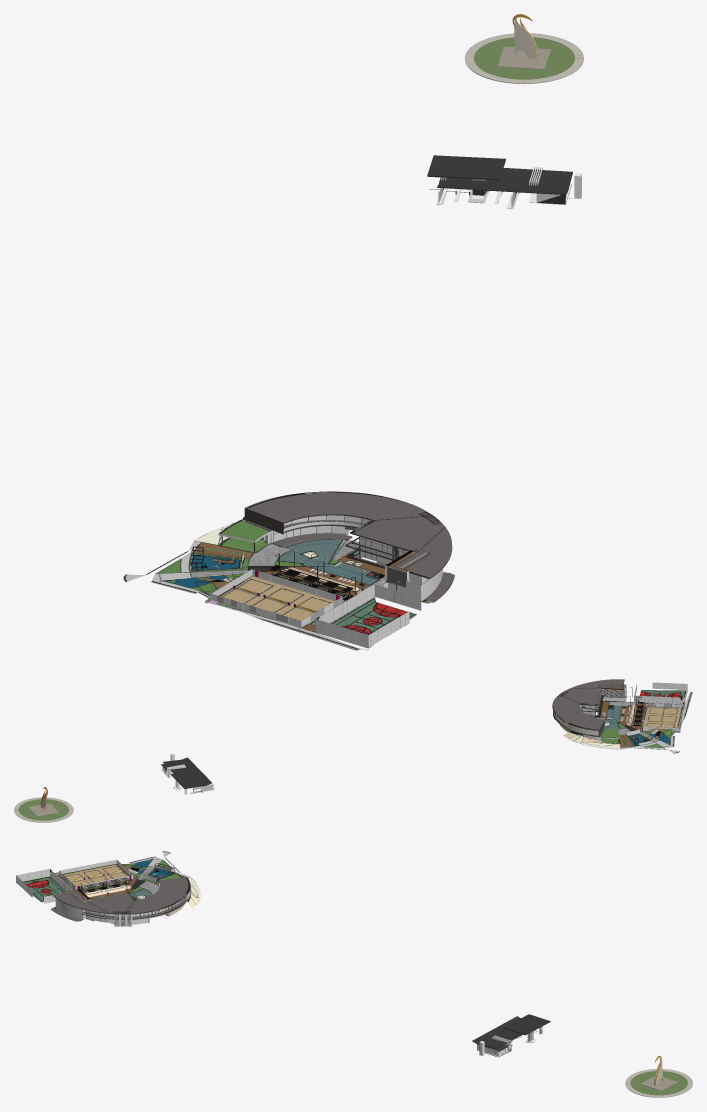
Rendered from marcos.glb.
3 views of the same model, one above another, from view 1: azimuth 30°, elevation 25°; view 2: azimuth 150°, elevation 25°; view 3: azimuth 270°, elevation 25° (orthographic). The views are drawn at different scales.
Visible parts, largest first — view 1: Clube, Portaria, Rotatoria; view 2: Clube, Rotatoria, Portaria; view 3: Clube, Portaria, Rotatoria.
Boxes of the visible parts, x1,y1,x2,y2 form: Clube: [123, 491, 454, 650]; Portaria: [427, 155, 581, 209]; Rotatoria: [465, 14, 583, 83]; Clube: [552, 679, 692, 753]; Rotatoria: [14, 787, 73, 822]; Portaria: [161, 753, 214, 794]; Clube: [15, 851, 200, 927]; Portaria: [472, 1014, 550, 1057]; Rotatoria: [625, 1056, 692, 1097].
Bounding box in the file's own units: 301 × 16.52 × 351.
83 materials, 1 textured.
